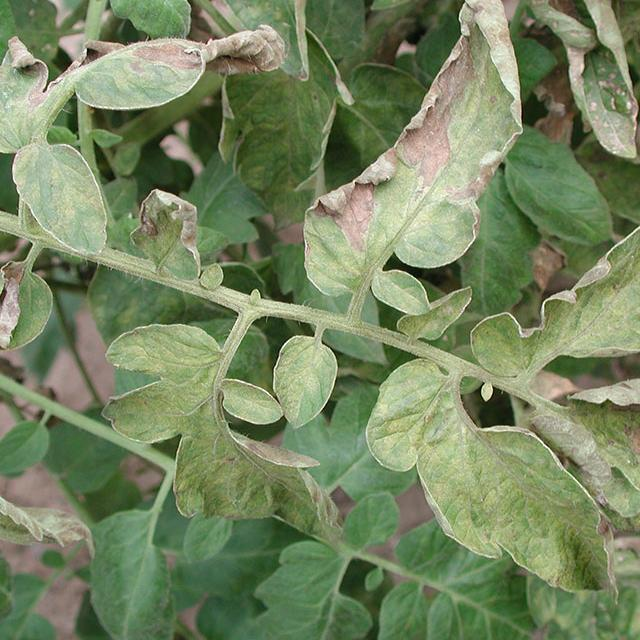Tomato mold leaf: (298, 0, 528, 299), (363, 351, 621, 599), (0, 12, 282, 144), (466, 191, 640, 380), (3, 140, 119, 264), (259, 330, 341, 430), (130, 186, 208, 286), (202, 375, 288, 429), (0, 268, 8, 347)
